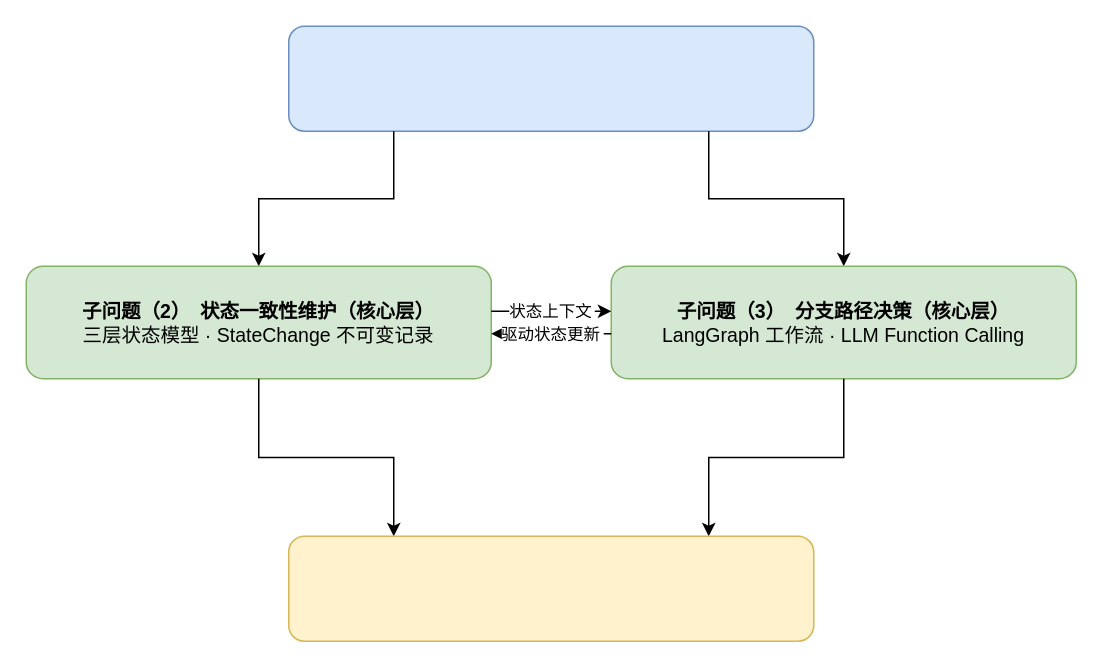
Image size: 1103x668. Some labels were removed from this diagram. Here are the shapes that lost their labels. From the top down, the centre of each, then its label:
(550,78): 子问题（1） 结构化提取（基础层） 非结构化文本 → 事件、角色、关系
(550,588): 子问题（4） 脚本化呈现（输出层） 结构化数据 → Ren'Py 视觉小说游戏脚本
